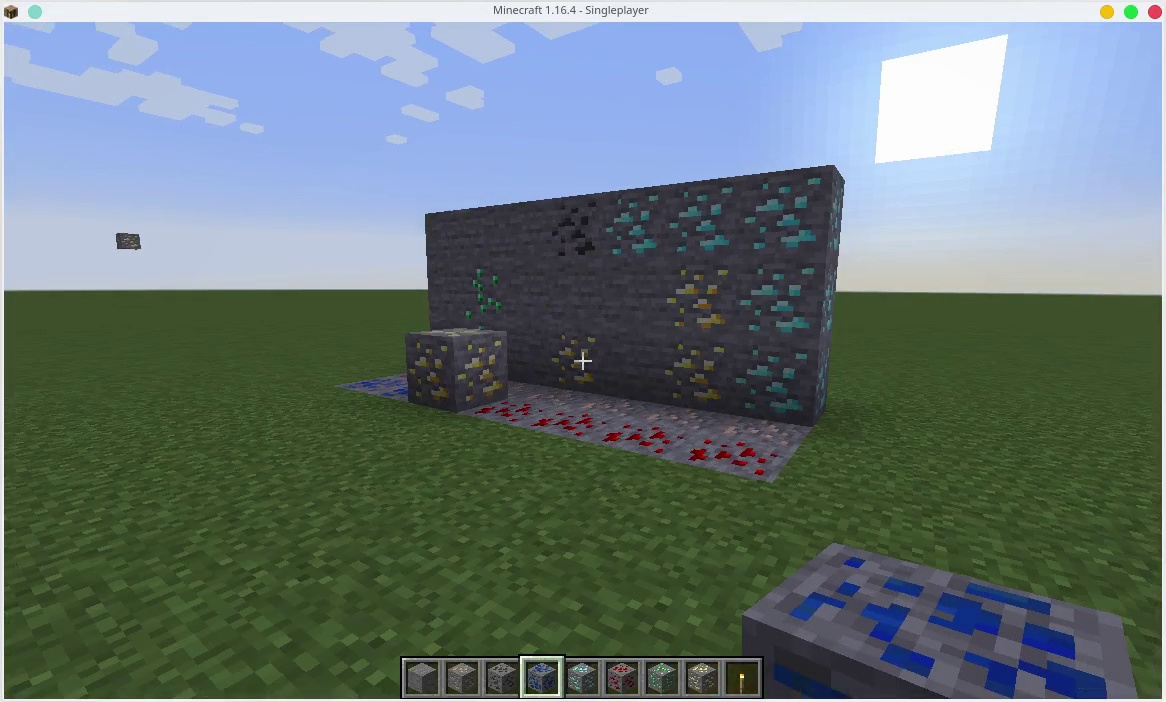gold: (407, 329, 493, 404), (670, 269, 734, 333), (663, 343, 724, 402), (546, 332, 606, 388), (685, 662, 718, 691)
